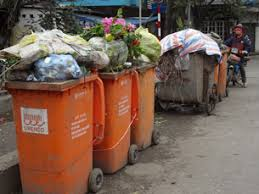plastic bag: (1, 17, 162, 81)
